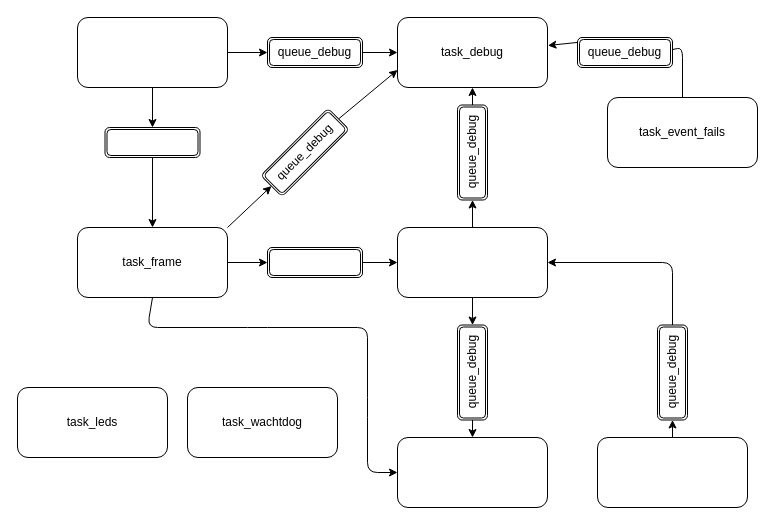
Image size: 775x525. Some labels were removed from this diagram. Each missing label, with the centre of its shape:
"queue_data" belongs at pixel 314 262.
"queue_frame" belongs at pixel 152 142.
"task_data_adquisition" belongs at pixel 152 52.
"task_raise_server" belongs at pixel 472 262.
"task_received" belongs at pixel 672 472.
"task_send" belongs at pixel 472 472.
